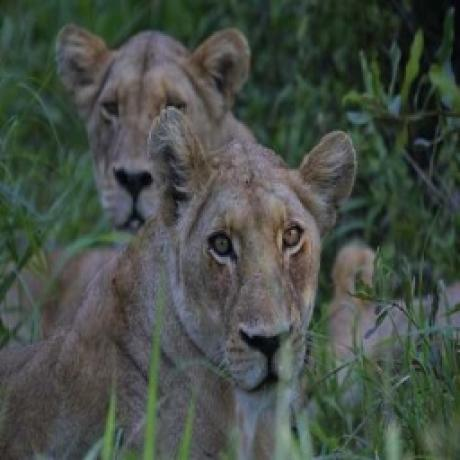Lion: (0, 105, 359, 459), (49, 19, 271, 240)
